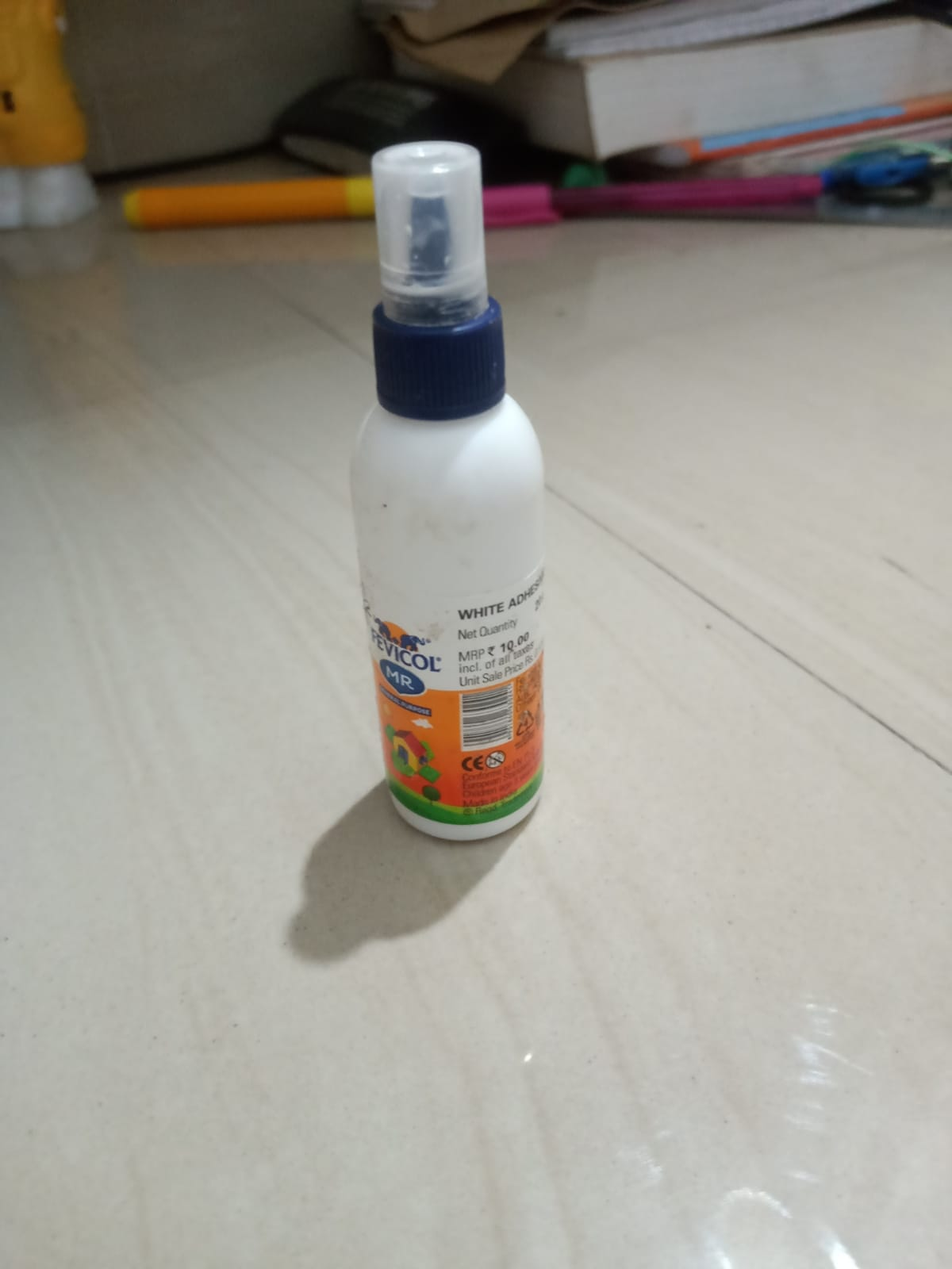plastic: (302, 127, 585, 851)
